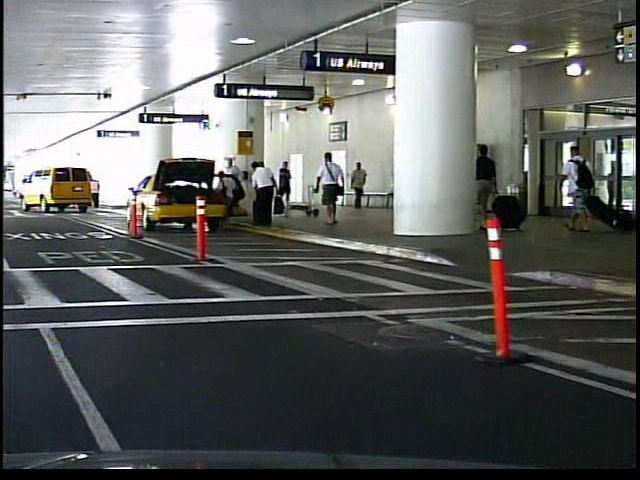person: (550, 142, 592, 237), (309, 149, 344, 229), (473, 138, 497, 231), (347, 157, 366, 213)
